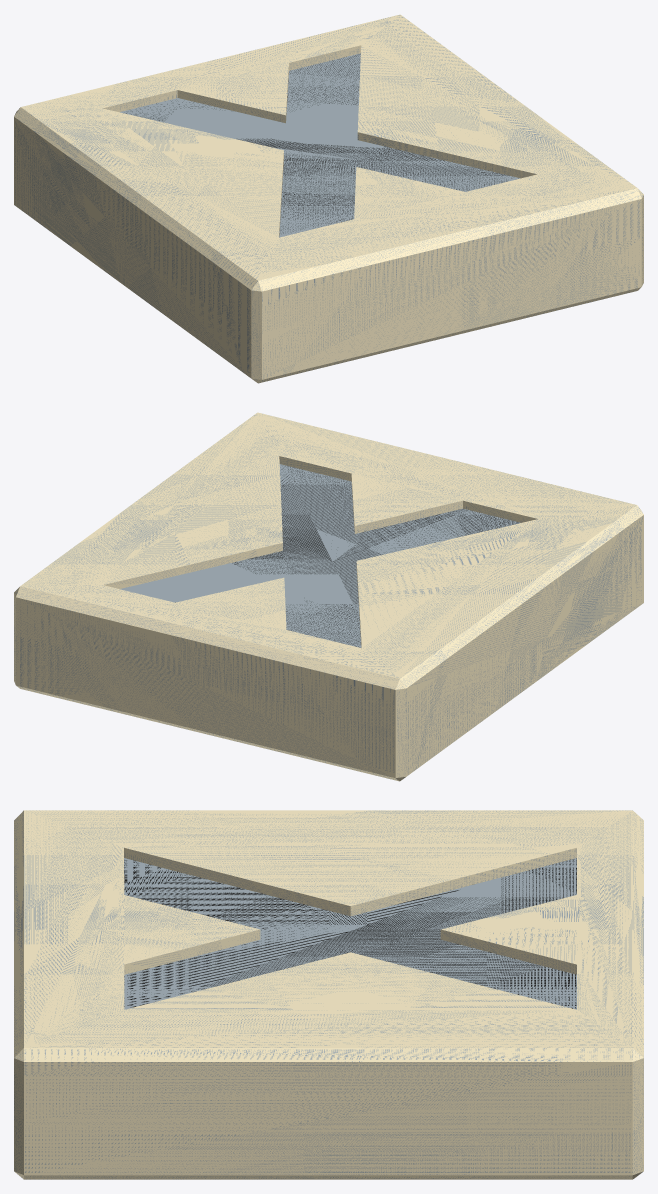
Rendered from Boardgame_Anagram_Tile_X.fbx.
3 renders of one model, top to bottom at view 1: azimuth 30°, elevation 25°; view 2: azimuth 150°, elevation 25°; view 3: azimuth 270°, elevation 25°, orthographic. The views are drawn at different scales.
Parts seen in each view (by area): view 1: Model; view 2: Model; view 3: Model.
Boxes of the visible parts, <box> form: Model: <box>14,14,643,383</box>; Model: <box>14,412,643,781</box>; Model: <box>14,810,643,1179</box>.
Size of the model in its own units: 195 by 48.83 by 212.
